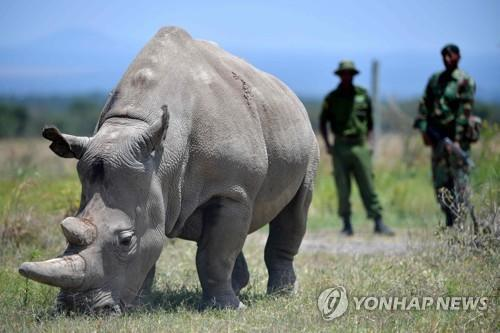Rhinoceros: (13, 28, 323, 326)
